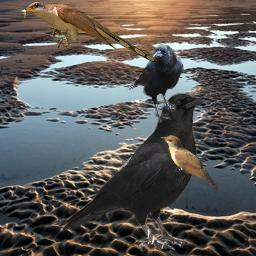Crow: (60, 90, 207, 251), (123, 41, 184, 124)
Cuckoo: (18, 1, 157, 63), (160, 135, 218, 193)
